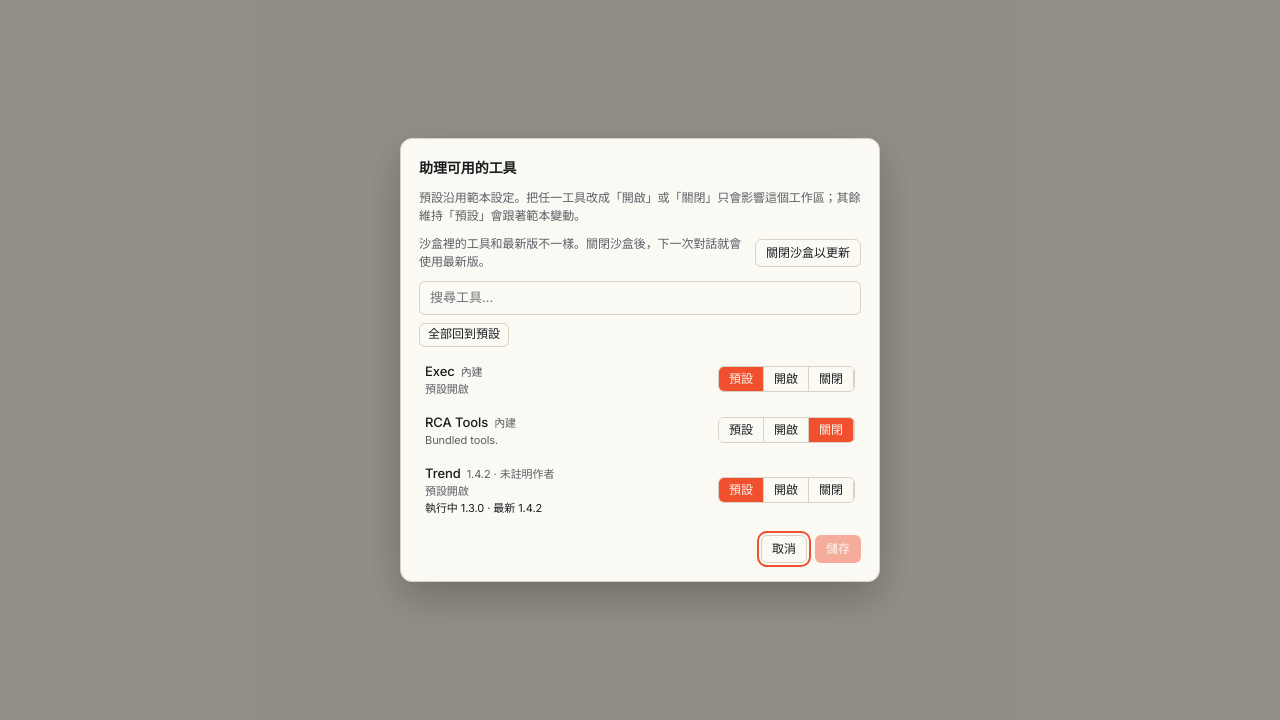
Test: ToolsPickerModal — a sandbox on a different release from the latest › a failed close is said once, beside the button
Click the button with test id "tools-update-close": (808, 252) [755,238,861,266]
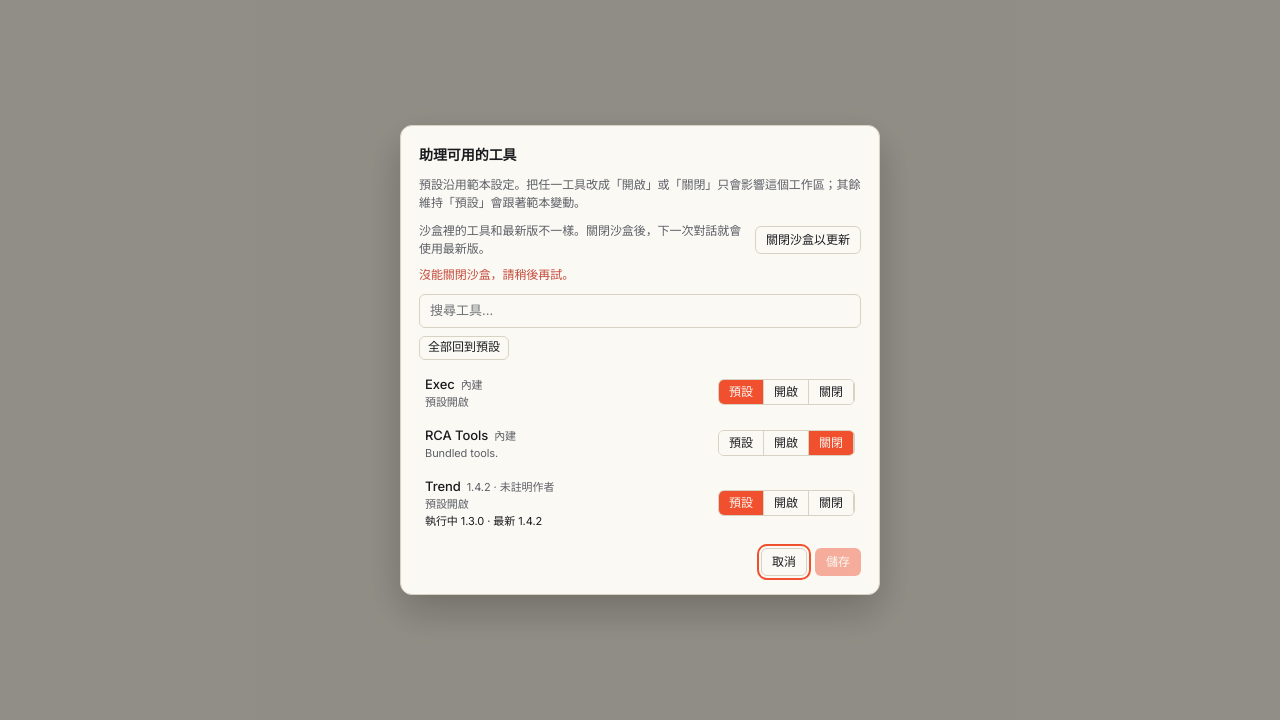
Expected: the text "沒能關閉沙盒，請稍後再試。" is shown, [419,266,574,282]
